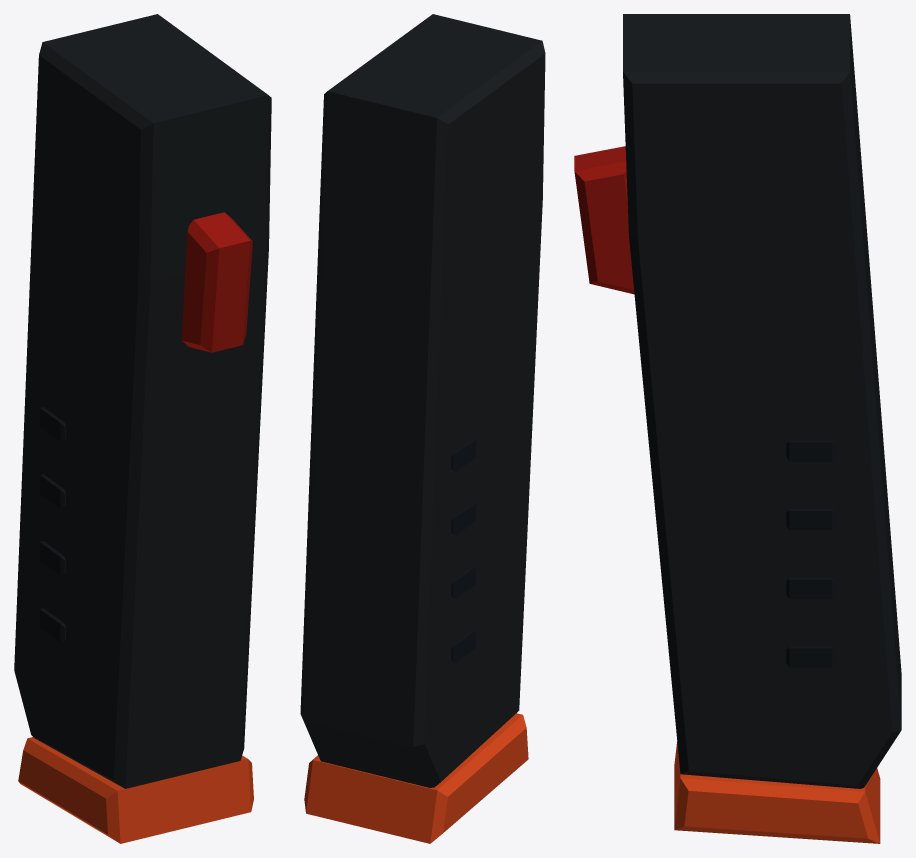
File: MegaphoneNormal_Grip.obj
3 views of the same model, side by side, from view 1: azimuth 30°, elevation 25°; view 2: azimuth 150°, elevation 25°; view 3: azimuth 270°, elevation 25° (orthographic). The views are drawn at different scales.
Parts seen in each view (by area): view 1: BlackPlastic, OrangeTrim, SwitchRed, Rubber; view 2: BlackPlastic, OrangeTrim, Rubber; view 3: BlackPlastic, OrangeTrim, SwitchRed, Rubber.
Boxes of the visible parts, box(x1,y1,x2,y2) form: BlackPlastic: box(14, 14, 271, 788); OrangeTrim: box(18, 737, 253, 843); SwitchRed: box(181, 212, 252, 352); Rubber: box(40, 407, 65, 642); BlackPlastic: box(300, 14, 545, 787); OrangeTrim: box(304, 713, 528, 843); Rubber: box(451, 438, 475, 662); BlackPlastic: box(623, 14, 901, 788); OrangeTrim: box(674, 741, 880, 843); SwitchRed: box(574, 146, 634, 294); Rubber: box(786, 440, 834, 667).
Size of the model in its own units: 0.057 by 0.28 by 0.108.
